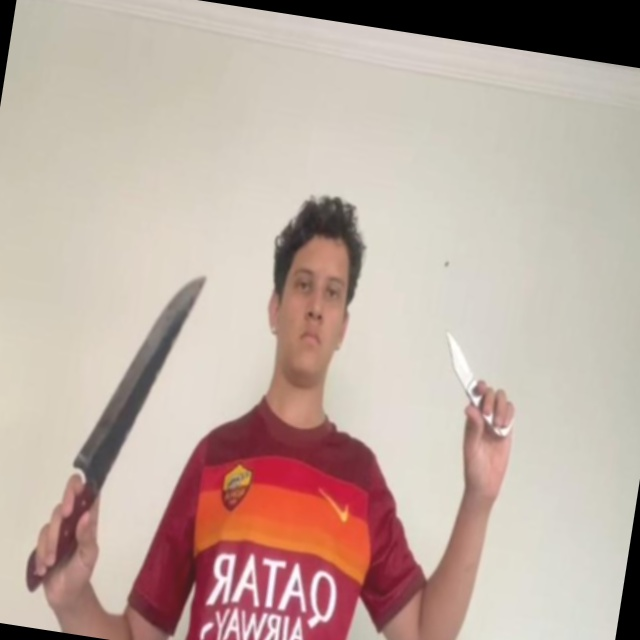Sharp-Object: (74, 260, 207, 483), (438, 330, 479, 393)
